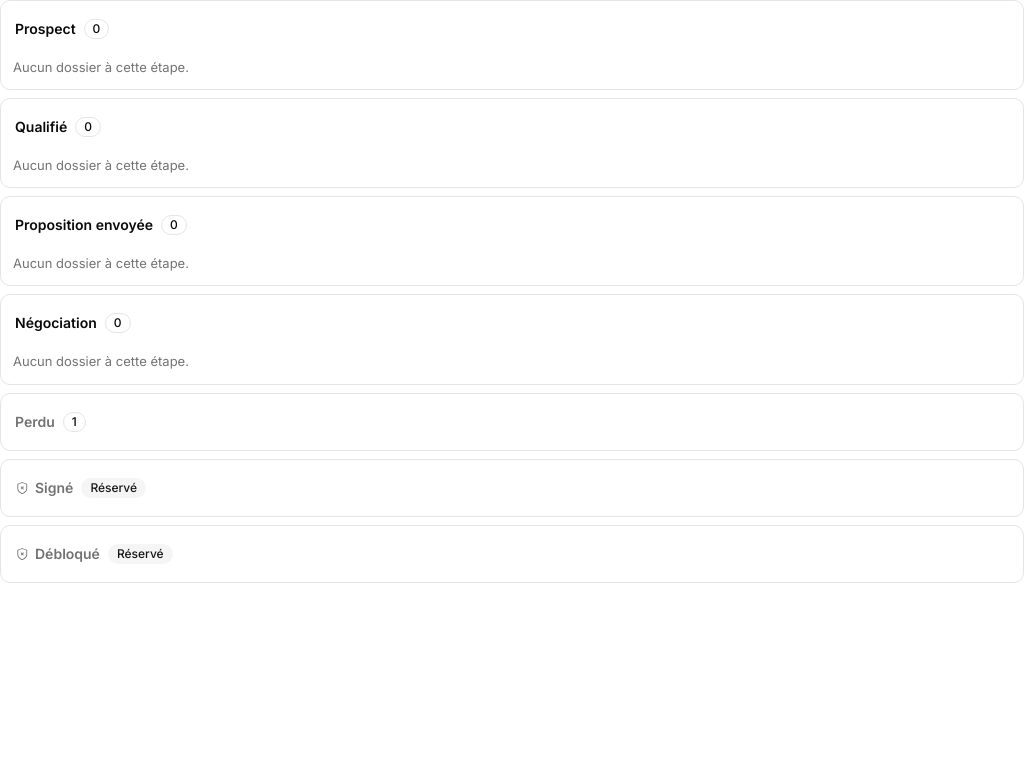
Test case: PipelineMobileList (Plan 33-07 Task 2) › Test 3: perdu starts collapsed and the other four partner-settable stages start expanded
Expected: the 4th text "Aucun dossier à cette étape." is shown, [13,353,189,369]
Expected: the text "Acme SARL" is not shown
Click the button "Perdu 1" at x=35, y=421, box [13,406,1011,438]
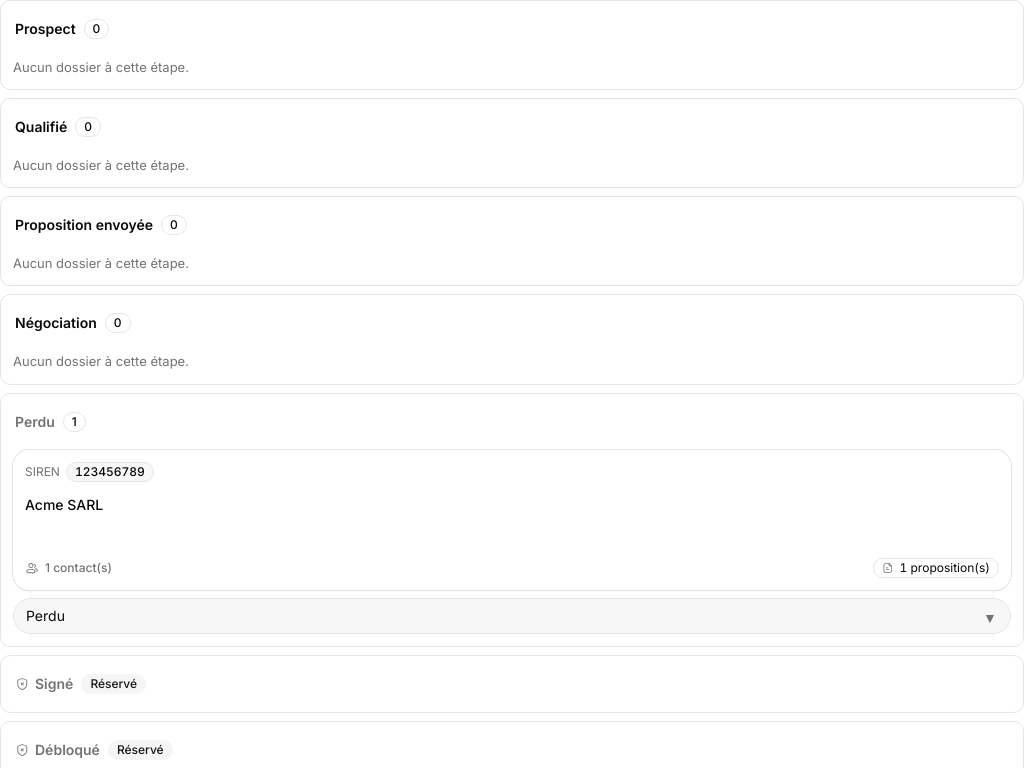
Result: the text "Acme SARL" is shown at [25,494,103,516]
